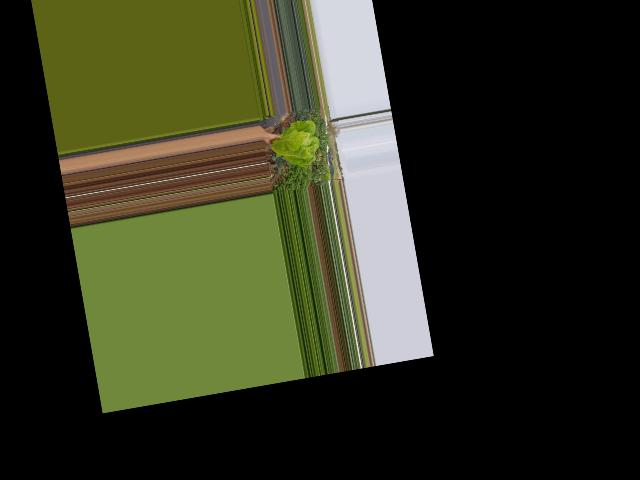lettuce: (264, 115, 323, 173)
